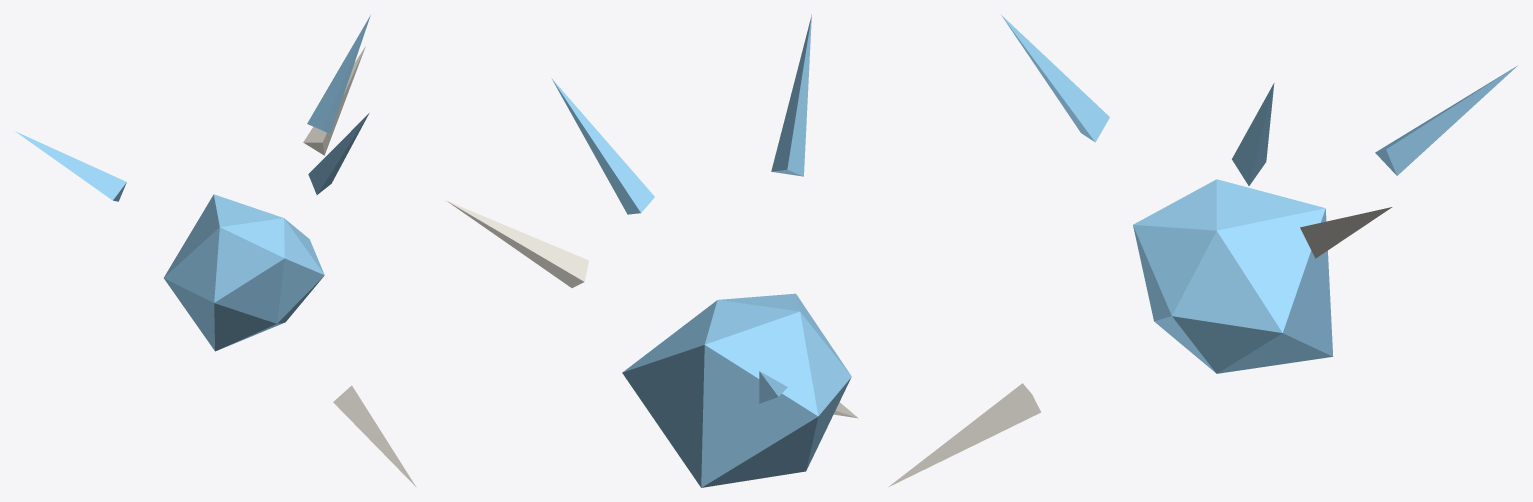
Rendered from frame_1.glb.
The picture shows the model from 3 angles, left to right: view 1: azimuth 30°, elevation 25°; view 2: azimuth 150°, elevation 25°; view 3: azimuth 270°, elevation 25°; orthographic projection. The views are drawn at different scales.
Visible parts, largest first — view 1: effect_electric_spark_frame_1; view 2: effect_electric_spark_frame_1; view 3: effect_electric_spark_frame_1.
Boxes of the visible parts, x1,y1,x2,y2 form: effect_electric_spark_frame_1: [15, 15, 416, 487]; effect_electric_spark_frame_1: [446, 14, 858, 487]; effect_electric_spark_frame_1: [888, 15, 1518, 487].
Bounding box in the file's own units: 2.85 × 3.08 × 3.75.
